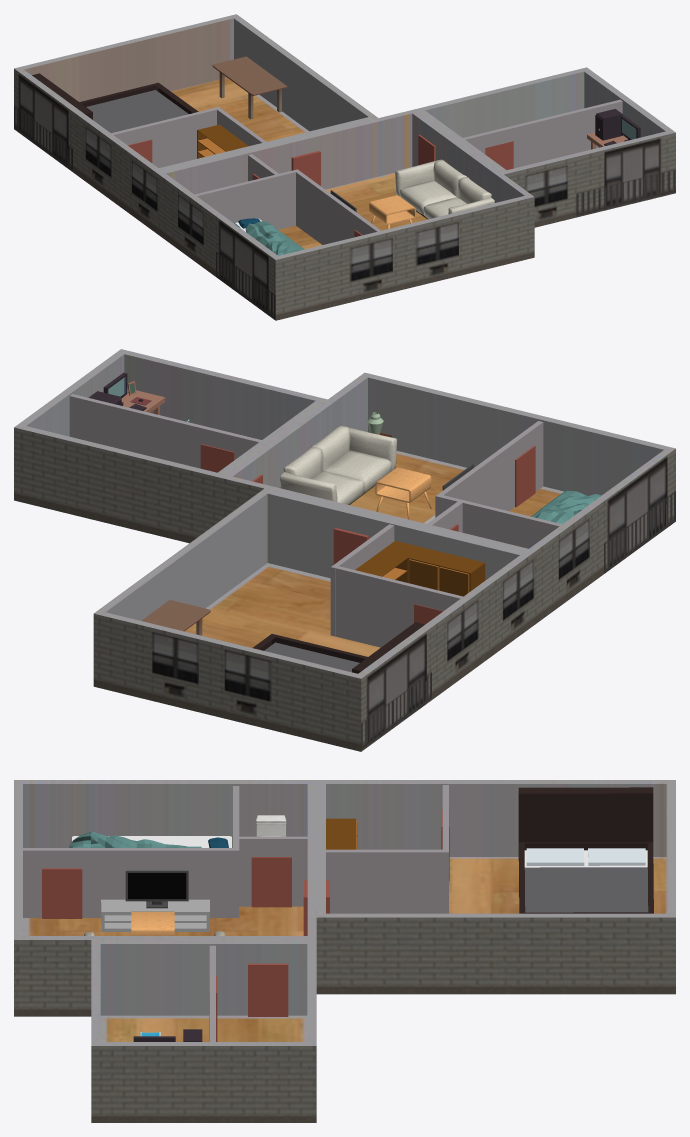
Rendered from room3.gltf.
The picture shows the model from 3 angles, top to bottom: view 1: azimuth 30°, elevation 25°; view 2: azimuth 150°, elevation 25°; view 3: azimuth 270°, elevation 25°; orthographic projection. The views are drawn at different scales.
Visible parts, largest first — view 1: 立方体.002, 立方体.006, 立方体.001, 立方体.013, 立方体.004, oreiller_5, Wardrobe_Color Grid_0, end_table_0, 立方体, 立方体.009, 立方体.012, 立方体.007; view 2: 立方体.002, 立方体.006, 立方体.004, Wardrobe_Color Grid_0, 立方体.013, 立方体.001, end_table_0, 立方体, oreiller_5, 立方体.003, 立方体.009, 立方体.012 (+1 smaller); view 3: 立方体.002, 立方体.013, 立方体, 立方体.007, TV bench_TV stand_0, 立方体.010, 立方体.003, 立方体.008, oreiller_5, TV_TV_sreen material_0, end_table_0, Wardrobe_Color Grid_0 (+3 smaller).
Boxes of the visible parts, left/top/right/bottom form: 立方体.002: left=14, top=14, right=675, bottom=320; 立方体.006: left=463, top=99, right=622, bottom=168; 立方体.001: left=195, top=170, right=295, bottom=229; 立方体.013: left=294, top=169, right=381, bottom=244; 立方体.004: left=111, top=108, right=216, bottom=167; oreiller_5: left=234, top=218, right=304, bottom=255; Wardrobe_Color Grid_0: left=197, top=124, right=248, bottom=158; end_table_0: left=369, top=195, right=415, bottom=228; 立方体: left=215, top=107, right=266, bottom=145; 立方体.009: left=291, top=151, right=320, bottom=185; 立方体.012: left=485, top=141, right=513, bottom=169; 立方体.007: left=248, top=154, right=280, bottom=181; 立方体.002: left=14, top=349, right=675, bottom=751; 立方体.006: left=69, top=394, right=261, bottom=468; 立方体.004: left=336, top=566, right=462, bottom=647; Wardrobe_Color Grid_0: left=355, top=540, right=485, bottom=596; 立方体.013: left=436, top=421, right=543, bottom=511; 立方体.001: left=435, top=495, right=561, bottom=548; end_table_0: left=375, top=467, right=431, bottom=519; 立方体: left=330, top=524, right=394, bottom=636; oreiller_5: left=531, top=490, right=601, bottom=524; 立方体.003: left=515, top=446, right=535, bottom=507; 立方体.009: left=333, top=528, right=368, bottom=564; 立方体.012: left=200, top=444, right=234, bottom=472; 立方体.002: left=14, top=780, right=675, bottom=1122; 立方体.013: left=23, top=848, right=238, bottom=917; 立方体: left=326, top=849, right=448, bottom=913; 立方体.007: left=235, top=836, right=307, bottom=906; TV bench_TV stand_0: left=101, top=899, right=209, bottom=931; 立方体.010: left=248, top=963, right=288, bottom=1016; 立方体.003: left=42, top=868, right=82, bottom=918; 立方体.008: left=251, top=857, right=291, bottom=907; oreiller_5: left=69, top=831, right=231, bottom=847; TV_TV_sreen material_0: left=128, top=873, right=186, bottom=899; end_table_0: left=131, top=911, right=174, bottom=935; Wardrobe_Color Grid_0: left=326, top=818, right=357, bottom=849.
Size of the model in its own units: 31.17 by 4.2 by 32.8.
37 materials, 7 textured.
